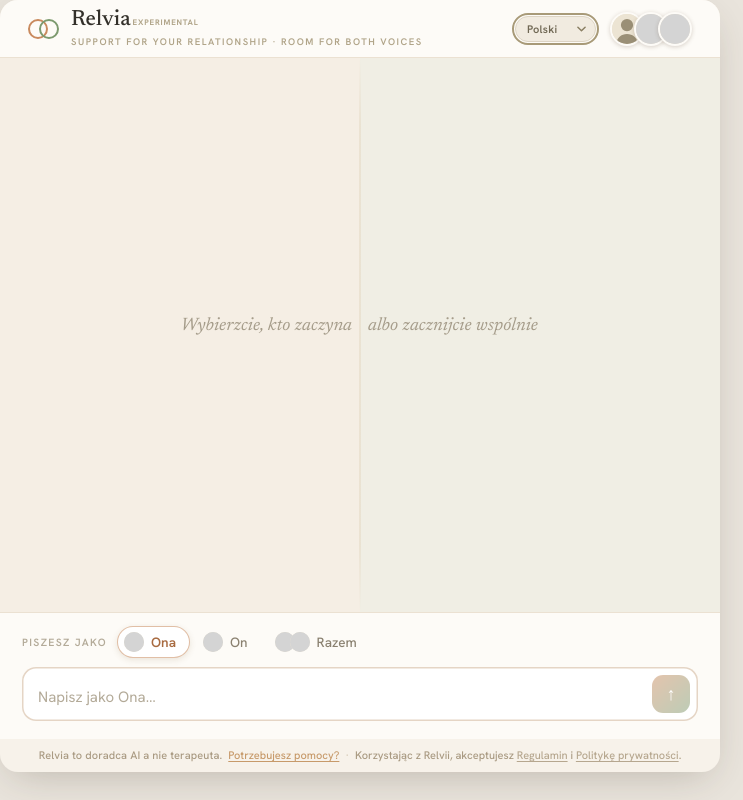
Test case: przełącznik języka › to dostępny z klawiatury <select> z pełną listą języków
This screenshot has width=743, height=800.
Select "Deutsch" in the dropdown named "Język" at (556, 28), box left=515, top=16, right=596, bottom=42
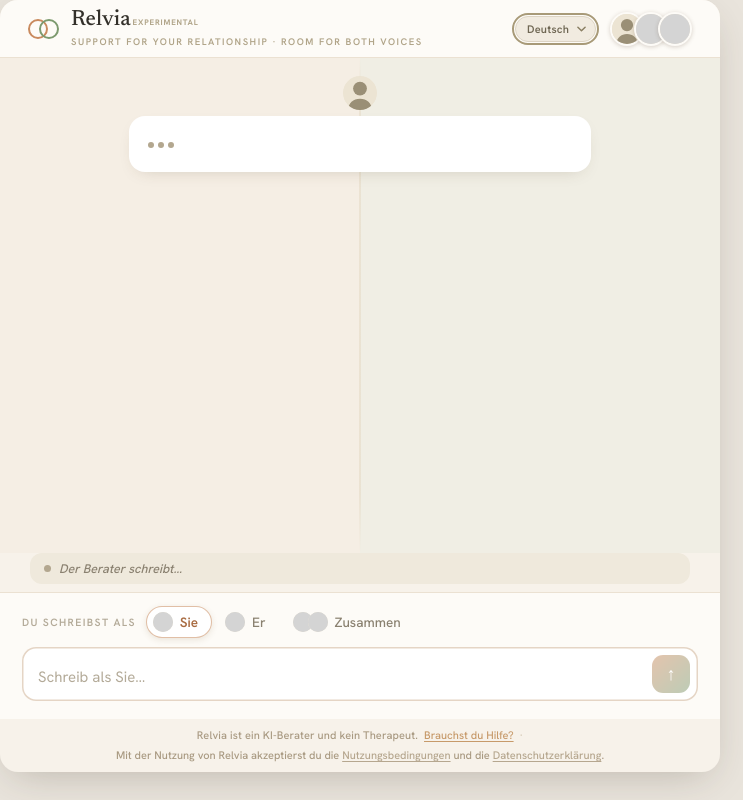
Now the text with class "author-select-label" reads "Du schreibst als", box left=22, top=615, right=136, bottom=629
